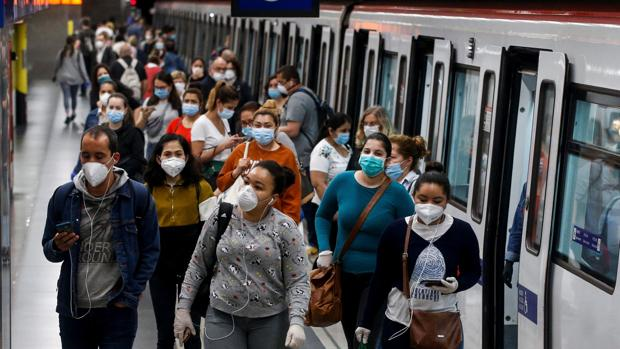with_mask: (233, 161, 294, 217), (80, 125, 115, 189), (354, 135, 398, 179), (413, 175, 452, 224), (155, 131, 190, 181), (250, 111, 282, 145), (209, 88, 240, 119), (104, 94, 127, 124), (179, 91, 203, 117), (328, 121, 353, 145)
